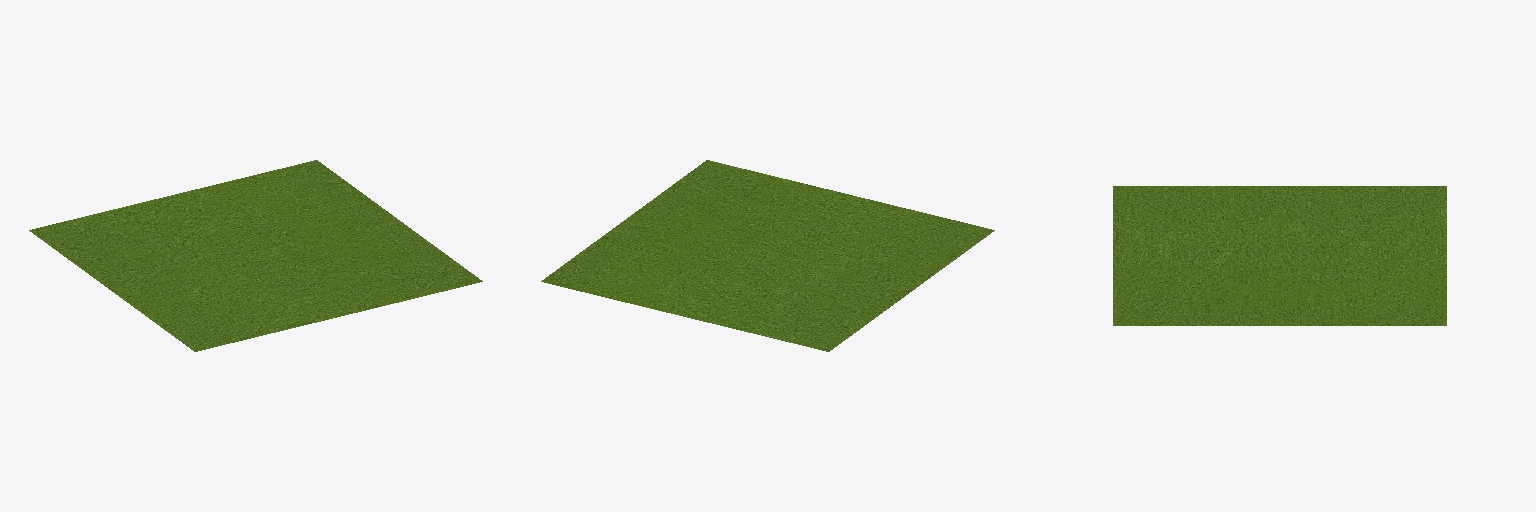
3 views of the same model, side by side, from view 1: azimuth 30°, elevation 25°; view 2: azimuth 150°, elevation 25°; view 3: azimuth 270°, elevation 25° (orthographic).
Visible parts, largest first — view 1: 平面; view 2: 平面; view 3: 平面.
Boxes of the visible parts, box(x1,y1,x2,y2) form: 平面: box(29, 160, 482, 351); 平面: box(541, 160, 994, 351); 平面: box(1113, 186, 1446, 325).
Size of the model in its own units: 1000 by 0 by 1000.
Materials: 1 (1 with a texture image).